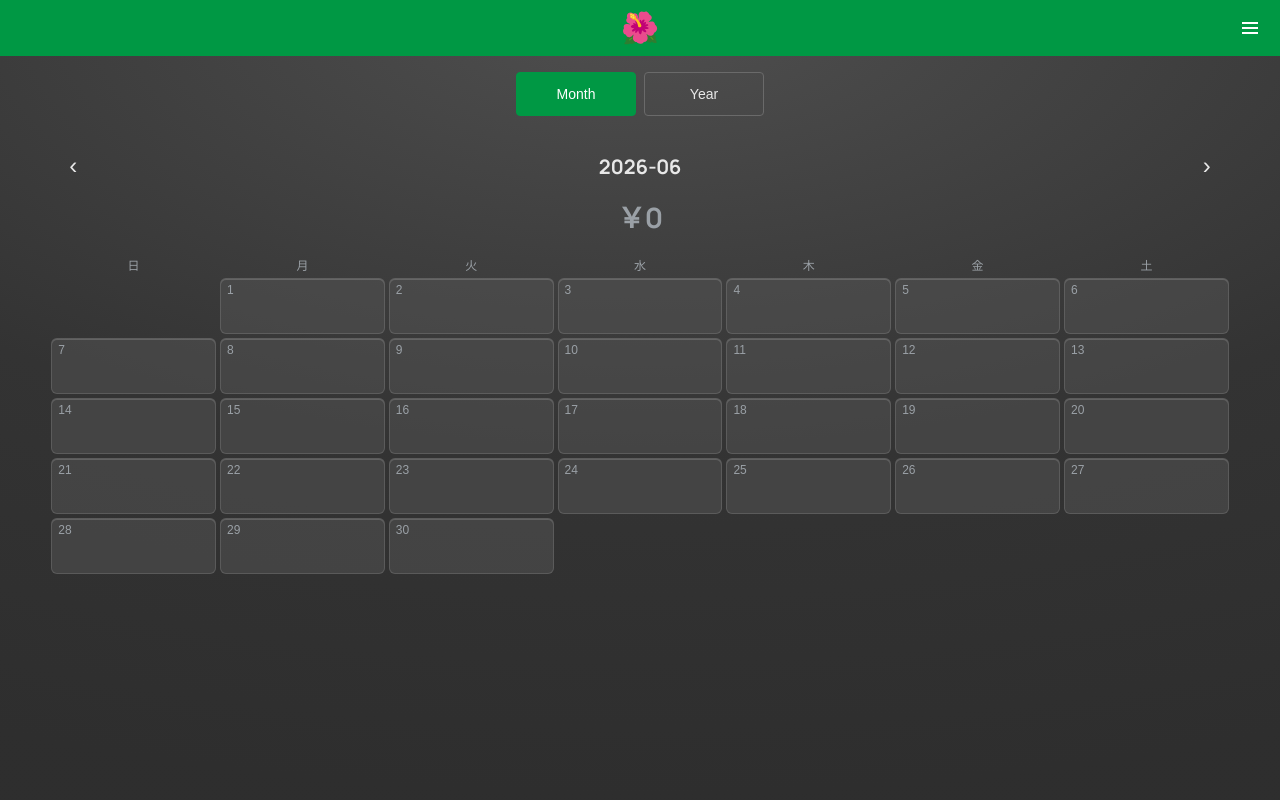
it: 年ビュー › 次の年・前の年でその年へ移動する
Click the button with aria-label "年表示" at (704, 94), box [644, 72, 764, 116]
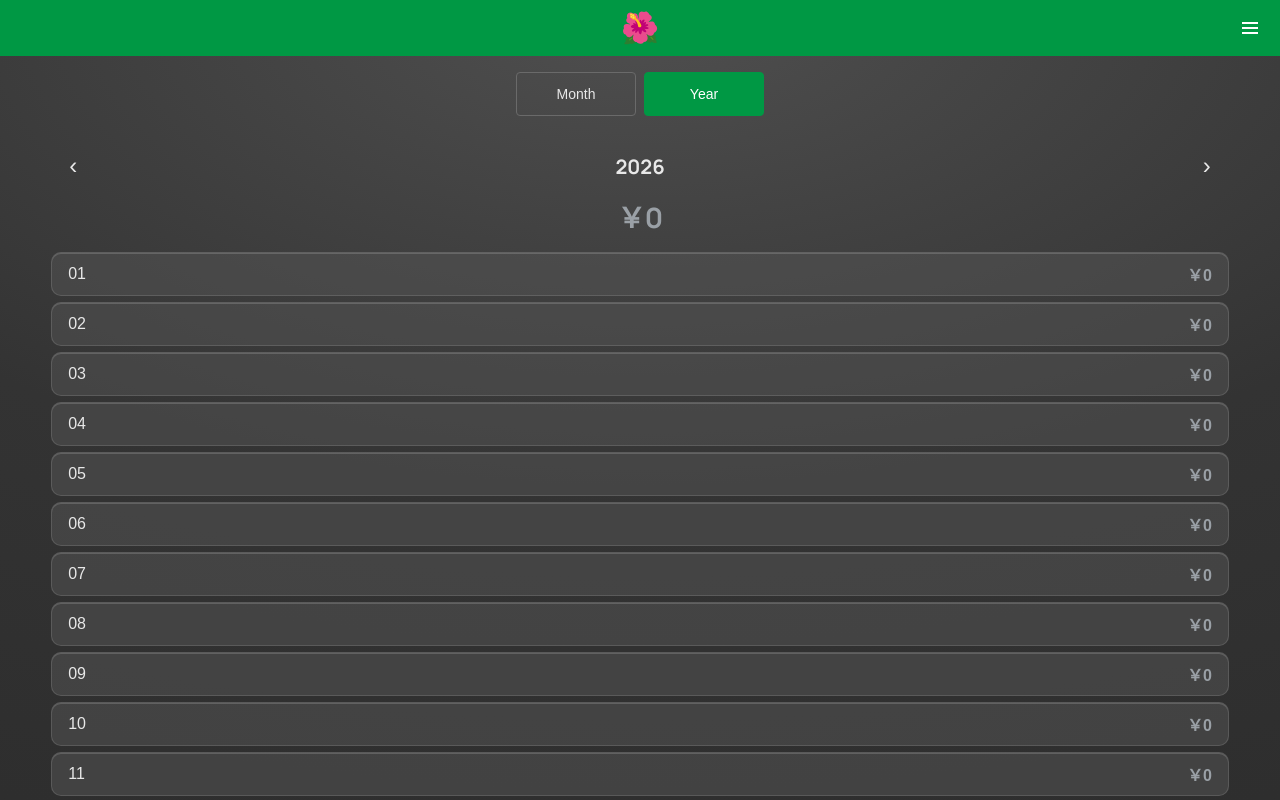
Click the button named "次の年" at (1207, 166), box [1185, 144, 1229, 188]
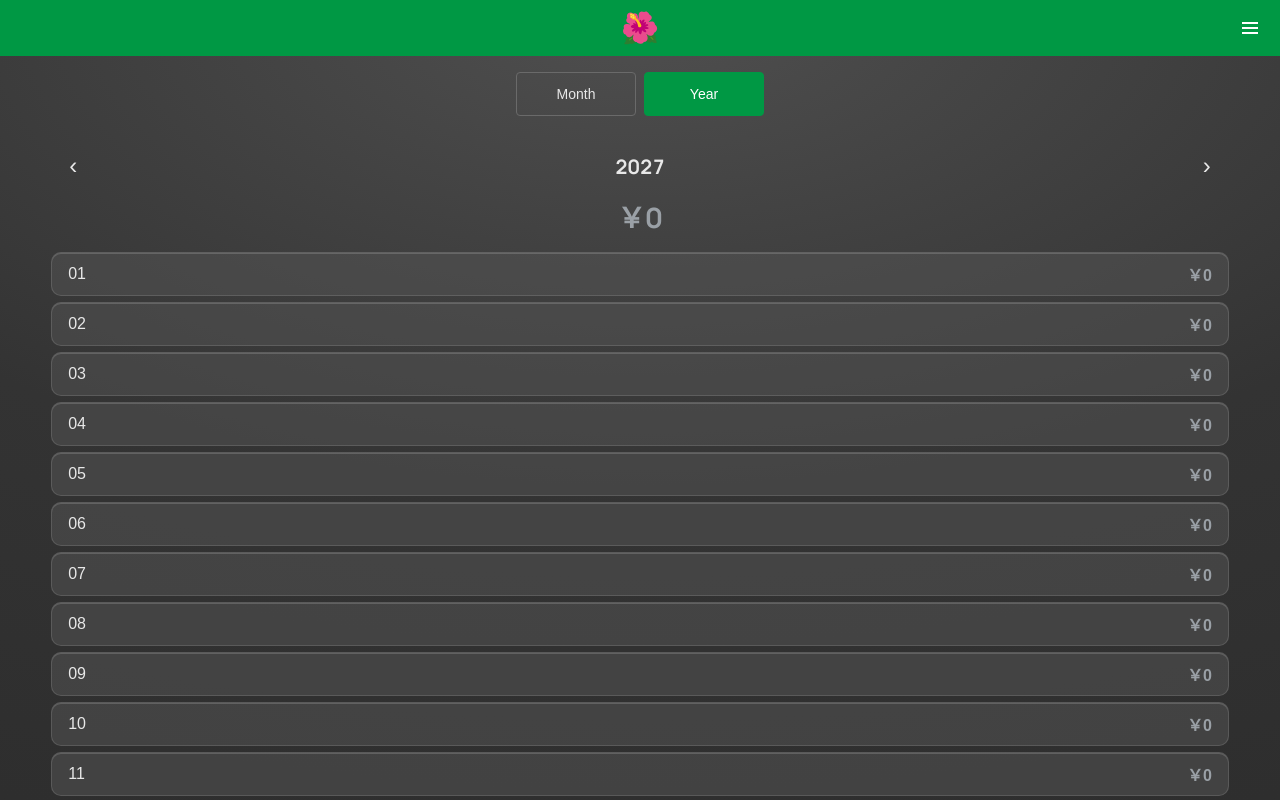
Click the button named "前の年" at (73, 166), box [51, 144, 95, 188]
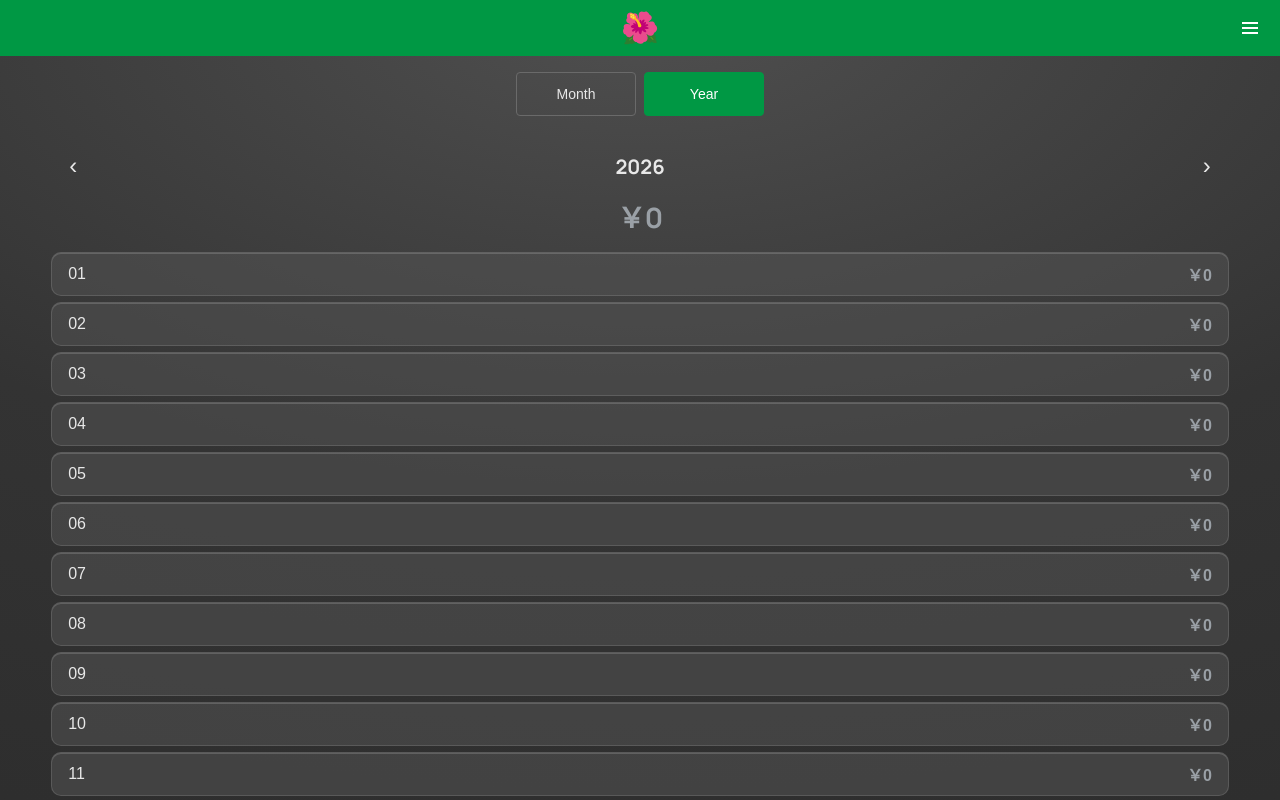
Expected: the text "2026" is shown, [615, 152, 665, 180]
